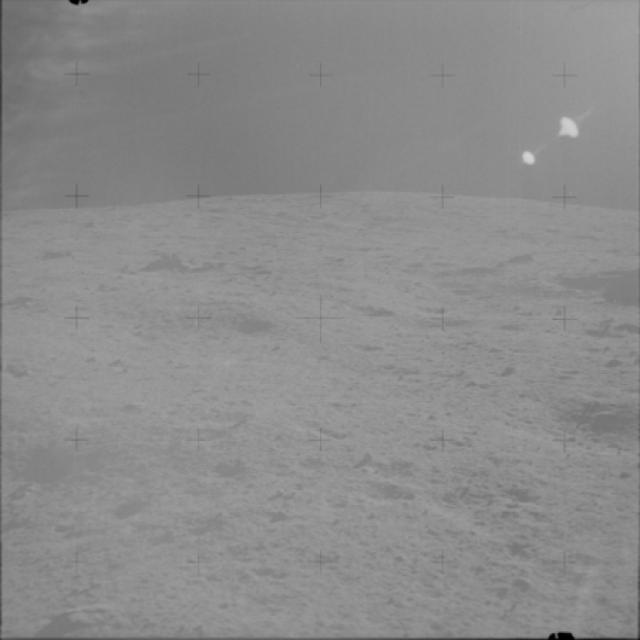crater: (505, 383, 638, 472), (201, 310, 288, 346), (352, 478, 425, 512)
rock: (125, 250, 217, 281), (51, 598, 120, 634), (198, 453, 266, 487), (1, 290, 41, 316), (33, 240, 79, 262), (0, 354, 31, 385)
